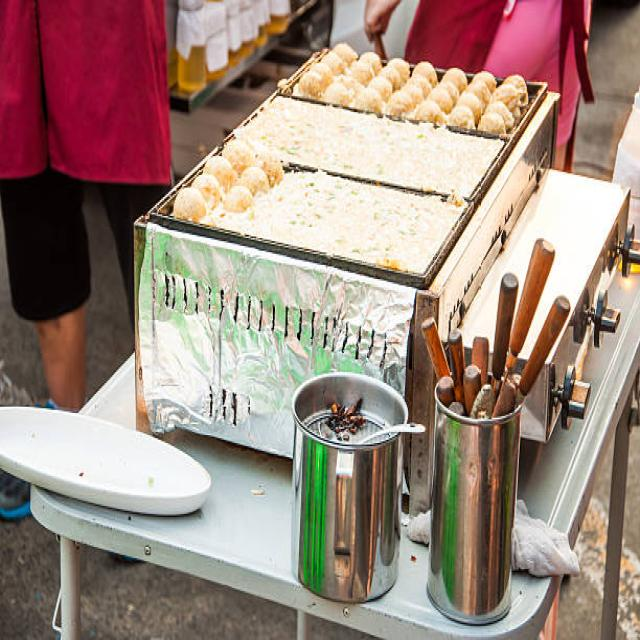Emperan: (25, 10, 640, 640)
